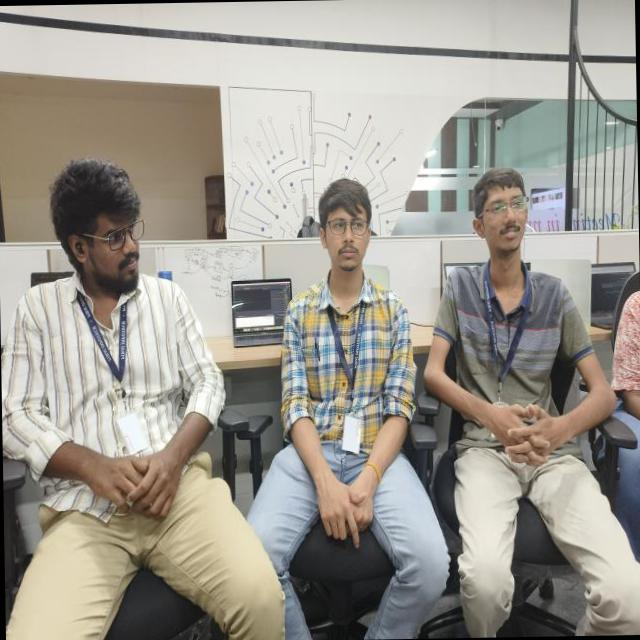id_card: (85, 285, 138, 449), (336, 292, 382, 461), (484, 268, 534, 406)
